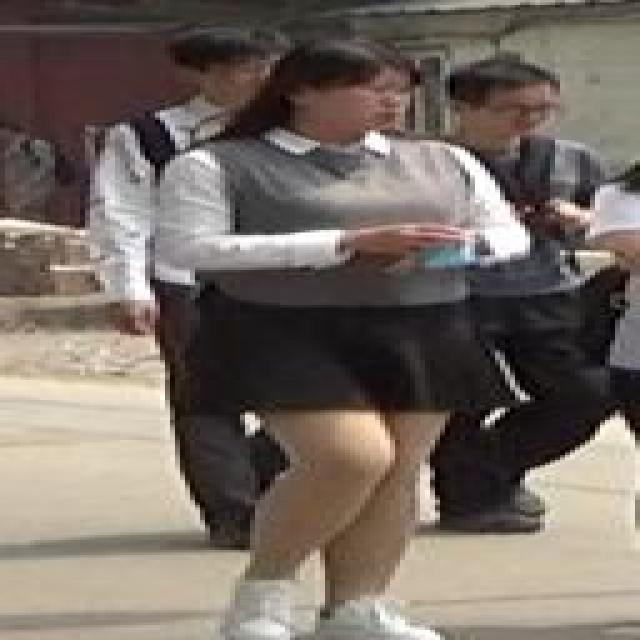adult: (165, 49, 521, 640), (84, 26, 373, 548), (430, 57, 618, 532)
